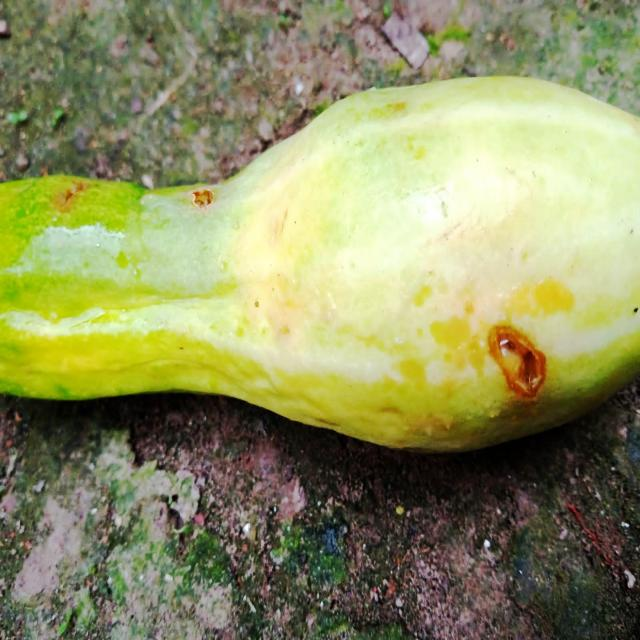Belly-Rot: (481, 306, 555, 406), (48, 171, 97, 214), (181, 177, 222, 216)
